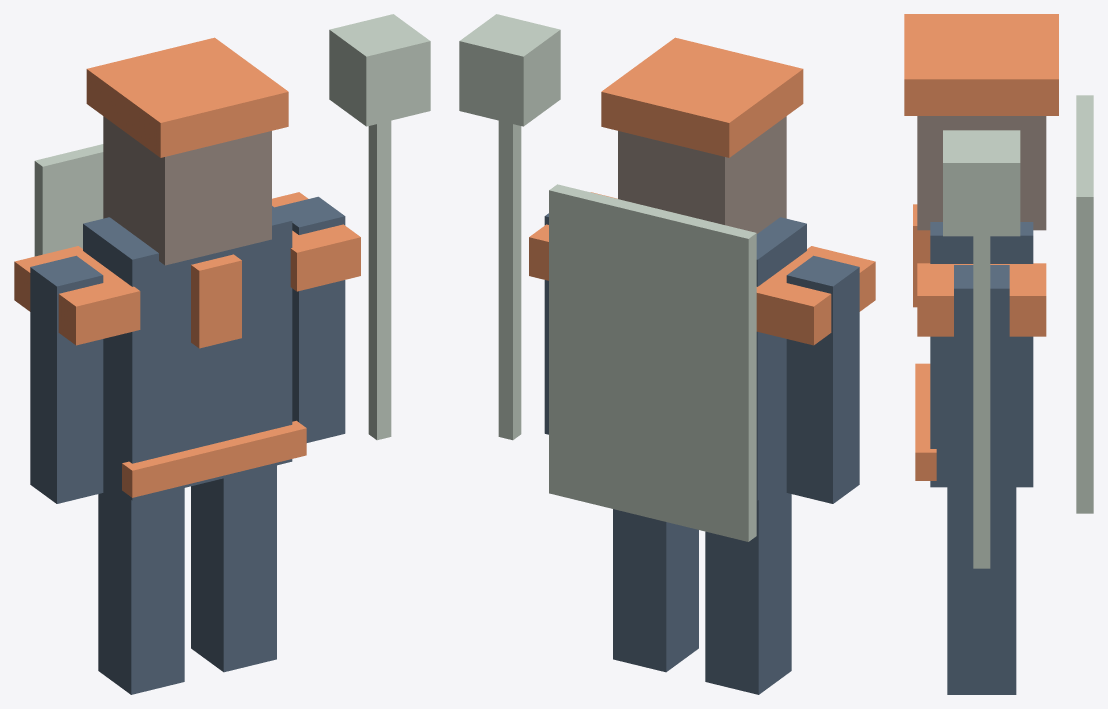
File: 04_juno_nullborne_ranger_from_power.glb
3 views of the same model, side by side, from view 1: azimuth 30°, elevation 25°; view 2: azimuth 150°, elevation 25°; view 3: azimuth 270°, elevation 25° (orthographic). The views are drawn at different scales.
Visible parts, largest first — view 1: Juno Nullborne, Ranger from Power; view 2: Juno Nullborne, Ranger from Power; view 3: Juno Nullborne, Ranger from Power.
Part boxes in pixels (x1,y1,x2,y2): Juno Nullborne, Ranger from Power: [14, 14, 430, 694]; Juno Nullborne, Ranger from Power: [459, 14, 875, 694]; Juno Nullborne, Ranger from Power: [904, 14, 1093, 694].
Bounding box in the file's own units: 1.01 × 1.54 × 0.4305.
